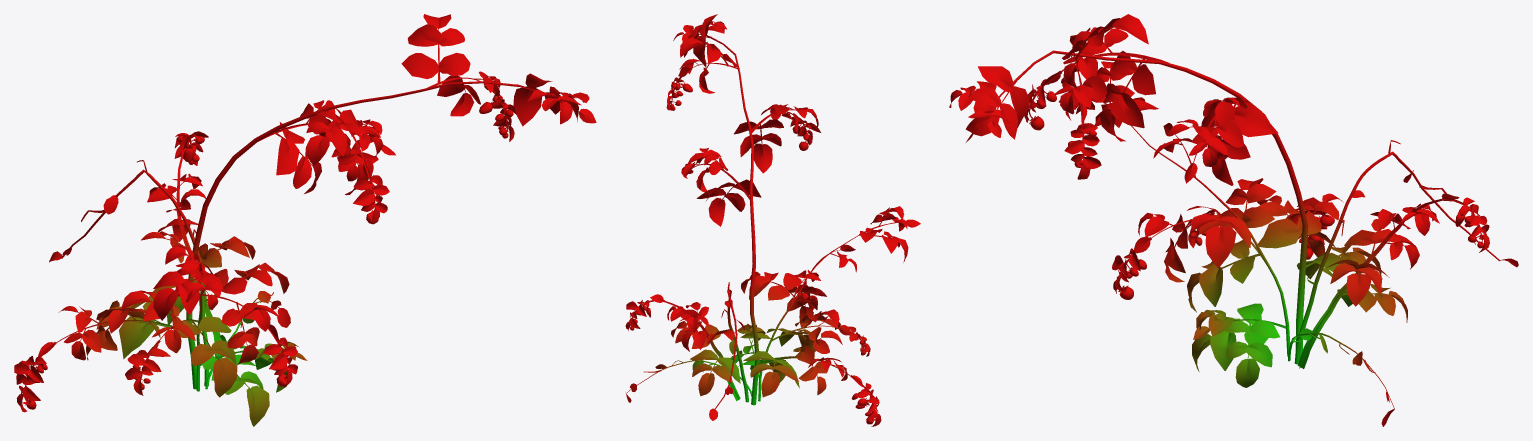
Rendered from Raspberry_LOD0_Var5_wf0oefeja.fbx.
The picture shows the model from 3 angles, left to right: view 1: azimuth 30°, elevation 25°; view 2: azimuth 150°, elevation 25°; view 3: azimuth 270°, elevation 25°; orthographic projection. The views are drawn at different scales.
Visible parts, largest first — view 1: _0kcv_Var5_LOD0; view 2: _0kcv_Var5_LOD0; view 3: _0kcv_Var5_LOD0.
Boxes of the visible parts, bbox=[...] form: _0kcv_Var5_LOD0: bbox=[14, 14, 596, 426]; _0kcv_Var5_LOD0: bbox=[625, 14, 920, 426]; _0kcv_Var5_LOD0: bbox=[949, 14, 1518, 426].
Size of the model in its own units: 74.59 by 67.6 by 81.06.
